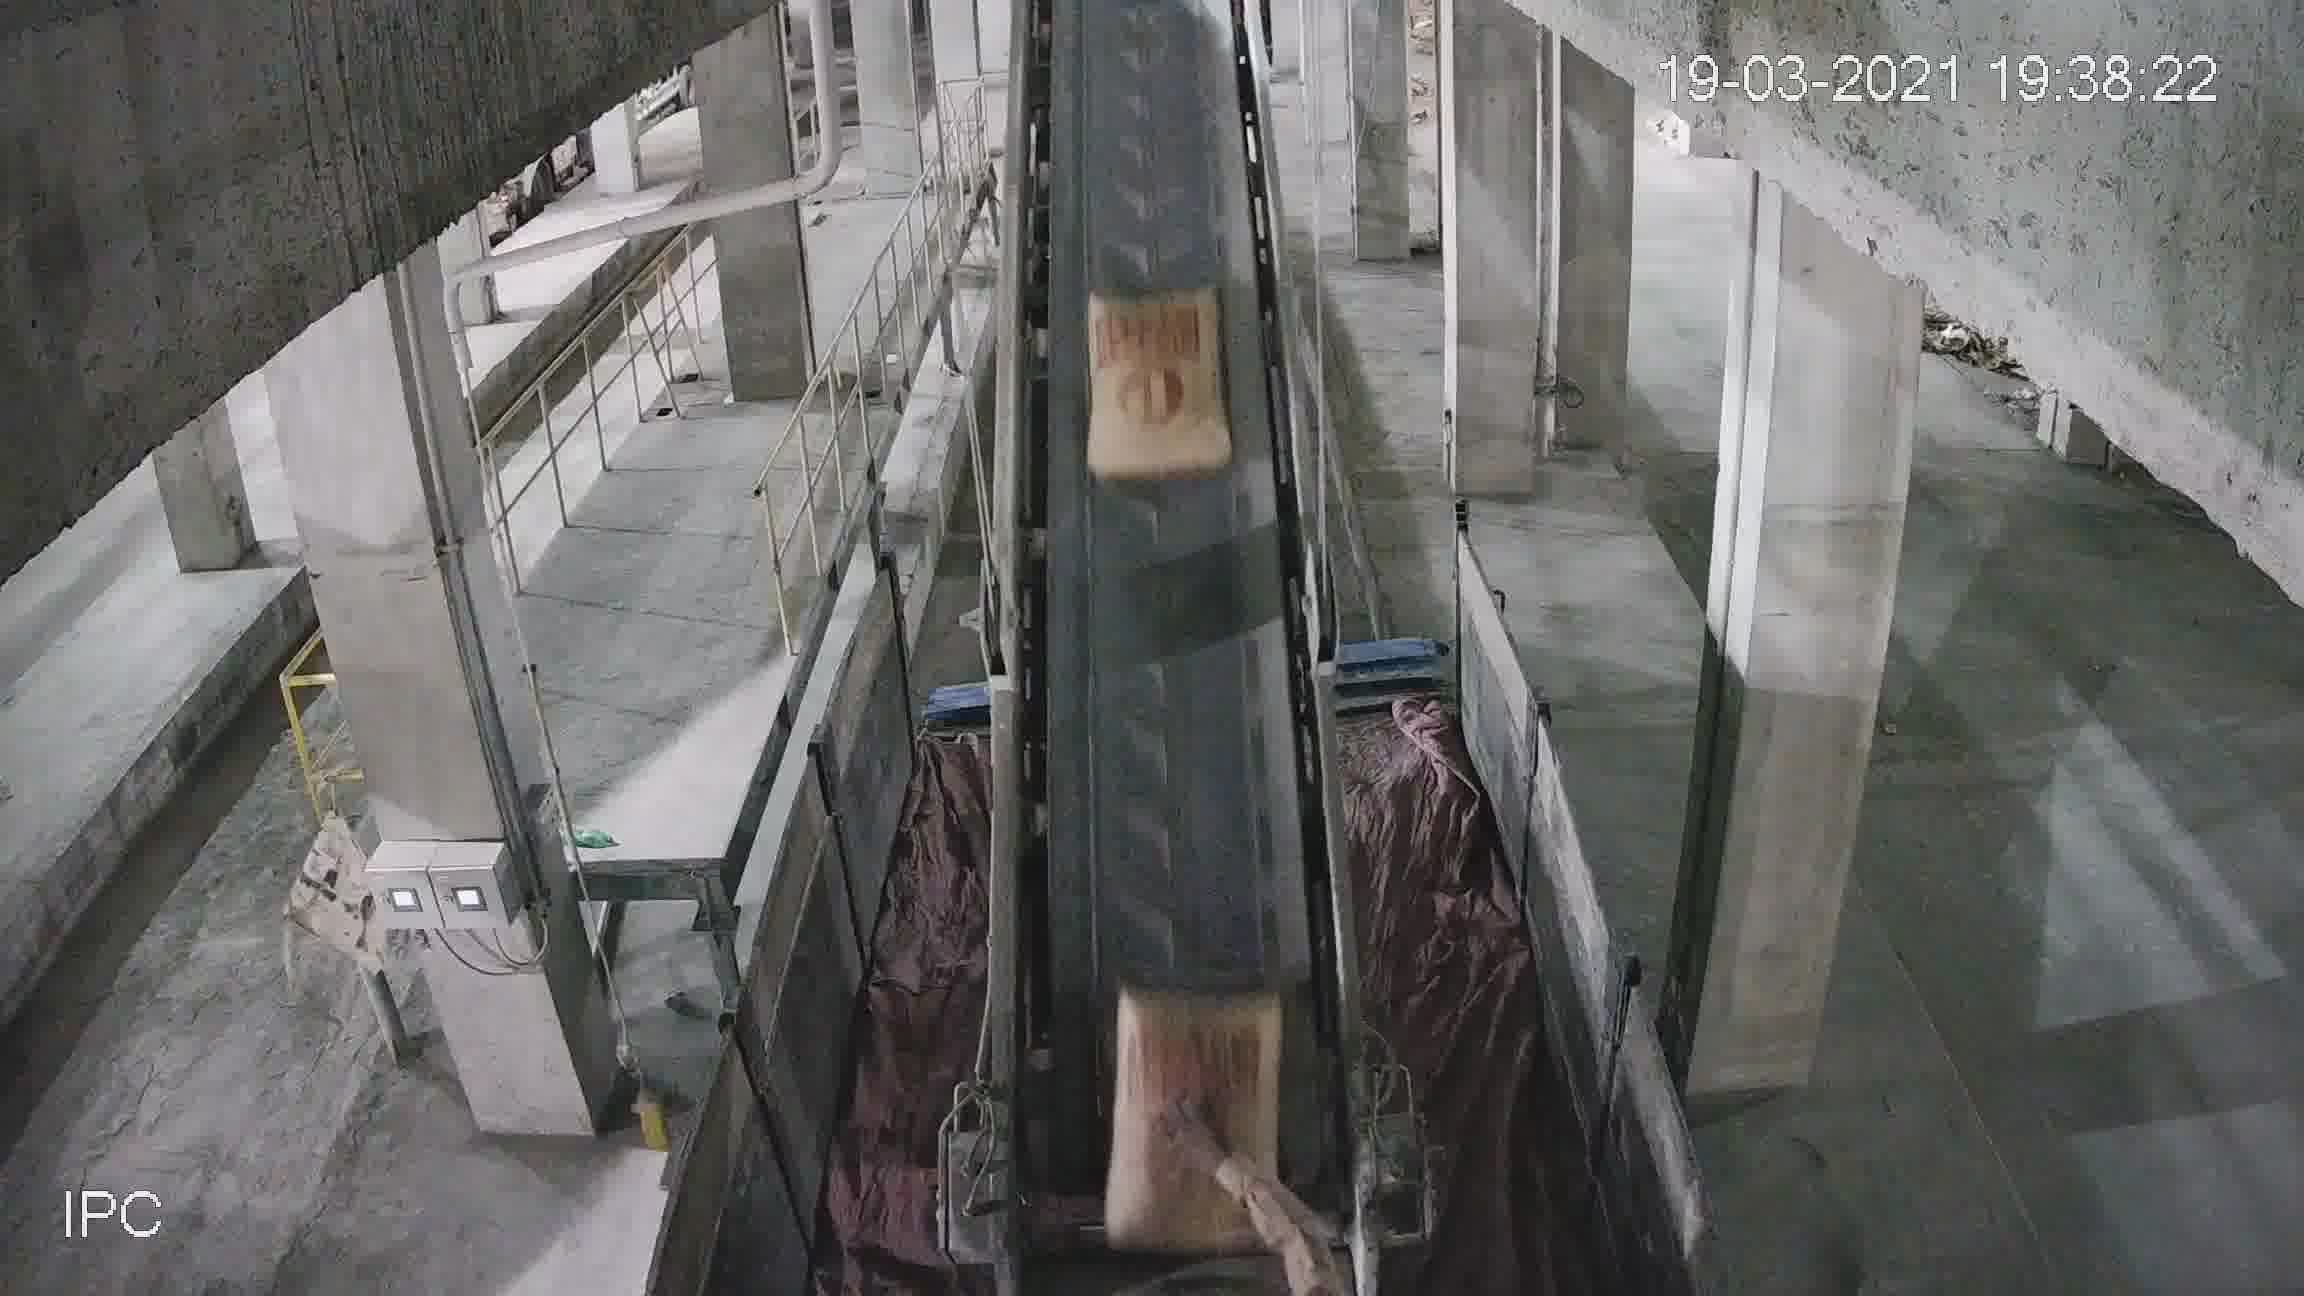bag: (1112, 981, 1272, 1255), (1082, 286, 1222, 479)
belt: (1003, 81, 1343, 1237)
